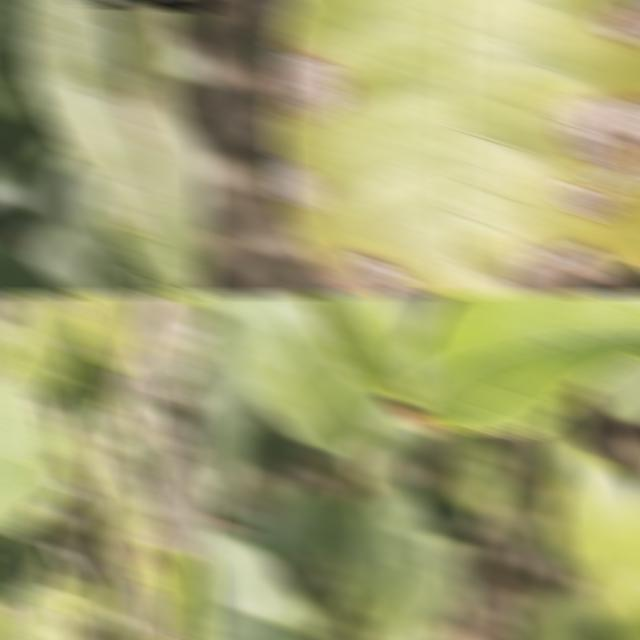Leaf: (271, 0, 640, 296), (14, 0, 211, 296), (415, 292, 640, 435), (218, 292, 391, 454), (332, 483, 443, 640), (549, 421, 640, 599), (197, 526, 318, 640), (99, 458, 169, 640), (300, 292, 414, 400), (29, 194, 148, 296), (197, 319, 264, 482), (244, 485, 350, 571), (0, 512, 65, 640), (12, 292, 88, 398), (44, 350, 100, 493), (455, 431, 507, 532), (68, 325, 122, 422), (68, 292, 129, 375), (511, 590, 598, 640), (584, 360, 640, 428), (176, 542, 211, 640), (381, 292, 443, 344), (51, 570, 91, 640), (75, 566, 114, 630), (129, 419, 160, 477)
